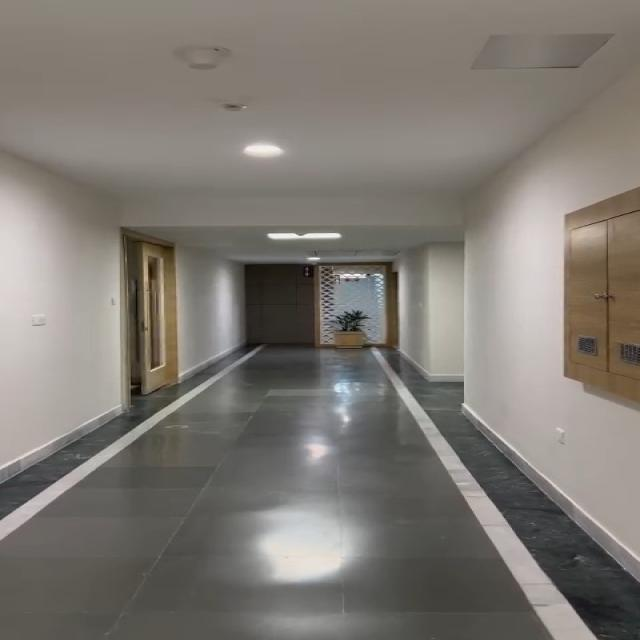door: (240, 255, 409, 352), (123, 225, 189, 413), (582, 214, 640, 406)
floor: (198, 385, 475, 640)
furniture: (326, 302, 372, 358)
wall: (14, 9, 131, 470), (432, 47, 562, 450)
